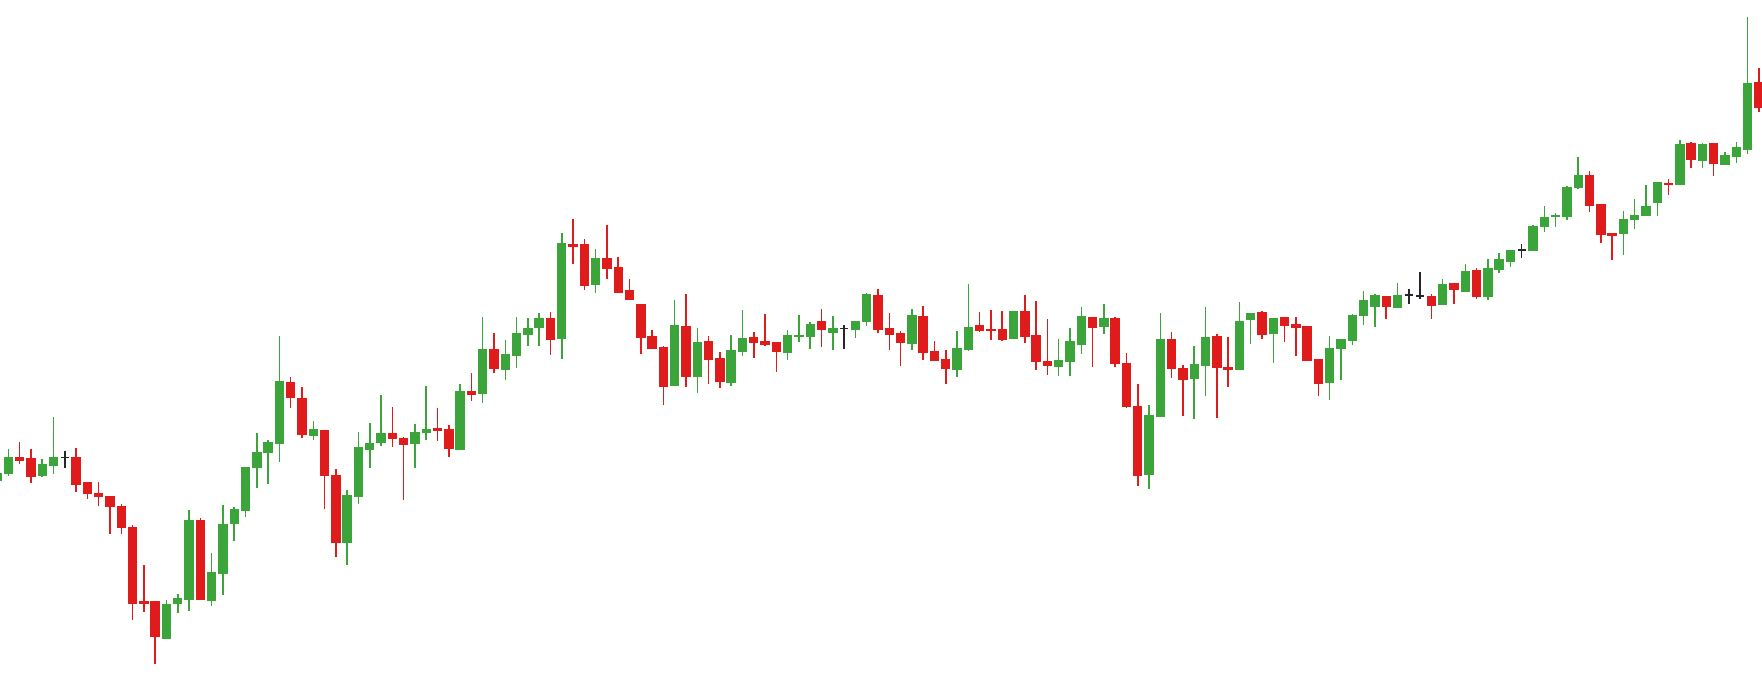buy: (659, 321, 1168, 485)
